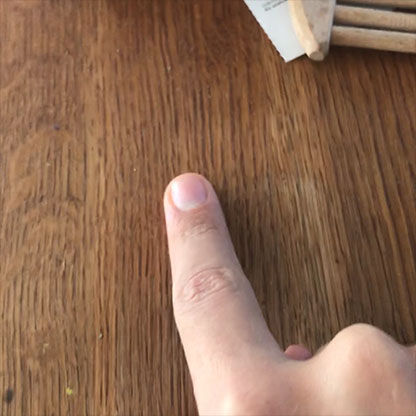fingertip: (145, 158, 230, 234)
